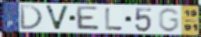5: (134, 7, 153, 32)
D: (19, 4, 45, 31)
E: (75, 5, 102, 32)
G: (157, 7, 181, 33)
L: (105, 7, 124, 31)
V: (44, 4, 71, 31)
